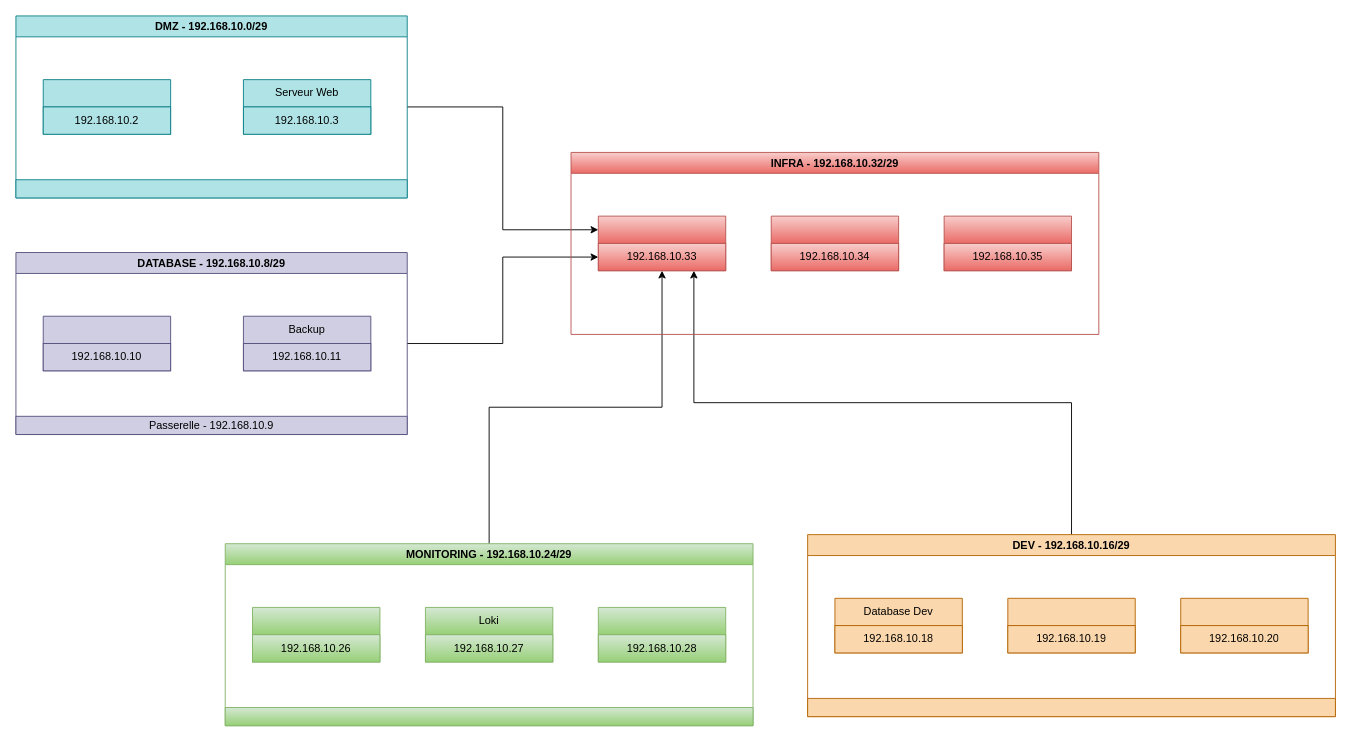
This 1351x742 diagram has some shape labels left out. Here are the shapes that lost their labels. From the top down, the box of each, then its label:
(42, 79, 171, 134): Reverse Proxy
(15, 179, 407, 198): Passerelle - 192.168.10.1
(597, 215, 726, 271): Gateway
(770, 215, 899, 271): DNS
(943, 215, 1072, 271): Bastion
(42, 315, 171, 371): Database
(252, 607, 380, 662): Grafana
(597, 607, 726, 662): Prometheus
(1007, 597, 1135, 653): Serveur Web Dev
(1180, 597, 1308, 653): CI/CD
(224, 707, 753, 726): Passerelle - 192.168.10.25
(807, 698, 1335, 717): Passerelle - 192.168.10.17
